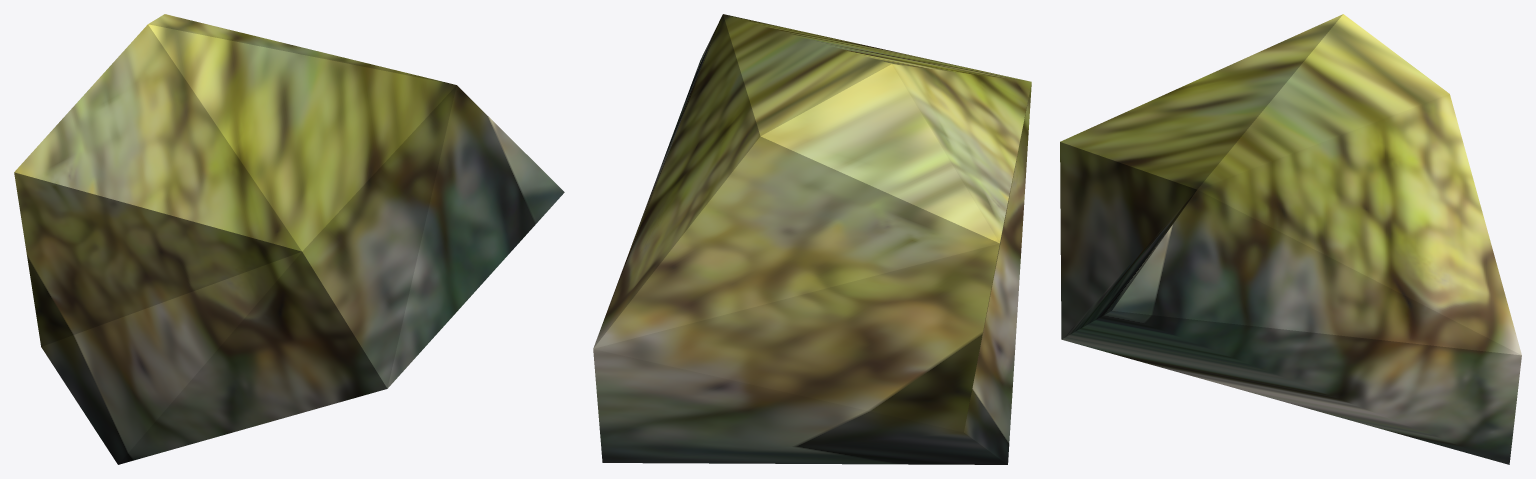
Rendered from TheOctagon_Floor_0_Rock_4.gltf.
3 views of the same model, side by side, from view 1: azimuth 30°, elevation 25°; view 2: azimuth 150°, elevation 25°; view 3: azimuth 270°, elevation 25° (orthographic). The views are drawn at different scales.
Visible parts, largest first — view 1: TheOctagon_Floor_0_Rock_4; view 2: TheOctagon_Floor_0_Rock_4; view 3: TheOctagon_Floor_0_Rock_4.
Part boxes in pixels (bbox=[...]): TheOctagon_Floor_0_Rock_4: bbox=[14, 14, 564, 464]; TheOctagon_Floor_0_Rock_4: bbox=[593, 14, 1031, 464]; TheOctagon_Floor_0_Rock_4: bbox=[1060, 14, 1521, 464].
Size of the model in its own units: 1.9 by 1.71 by 1.84.
1 material, 1 textured.
